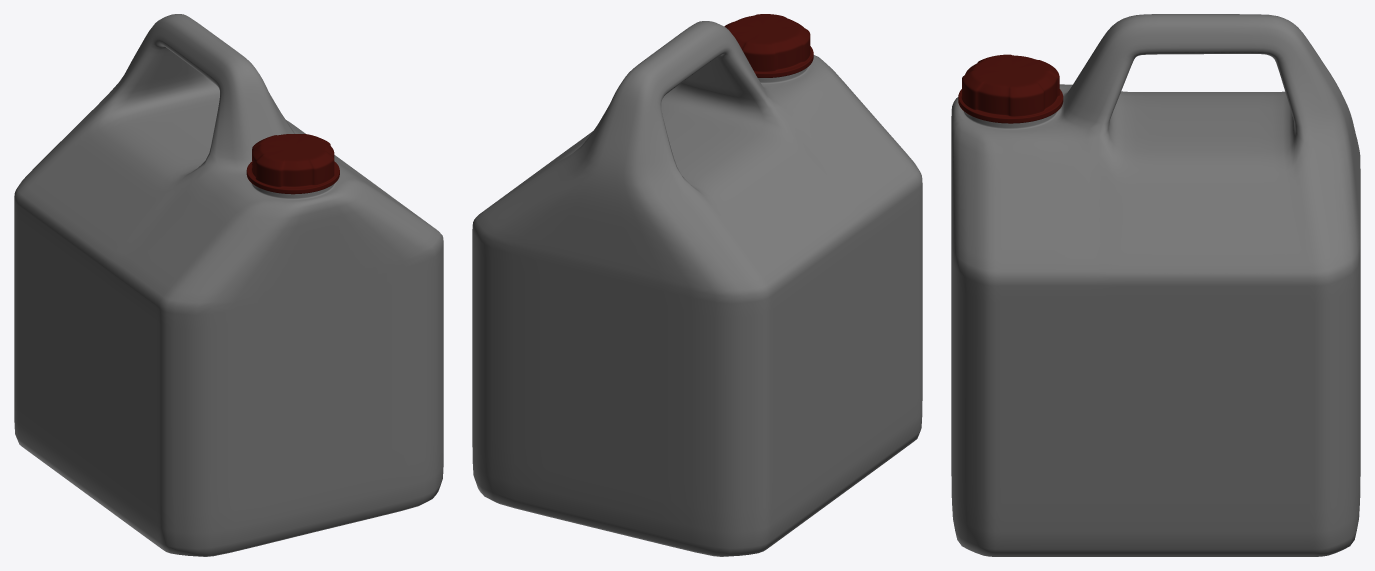
The model's file is kanistra 1.obj.
3 views of the same model, side by side, from view 1: azimuth 30°, elevation 25°; view 2: azimuth 150°, elevation 25°; view 3: azimuth 270°, elevation 25° (orthographic). The views are drawn at different scales.
Visible parts, largest first — view 1: Plane, Circle; view 2: Plane, Circle; view 3: Plane, Circle.
Part boxes in pixels (box(x1,y1,x2,y2)): Plane: box(14, 14, 443, 556); Circle: box(246, 134, 339, 194); Plane: box(472, 21, 922, 556); Circle: box(724, 14, 813, 77); Plane: box(951, 14, 1360, 556); Circle: box(958, 54, 1063, 123).
Size of the model in its own units: 0.1787 by 0.2532 by 0.1997.
